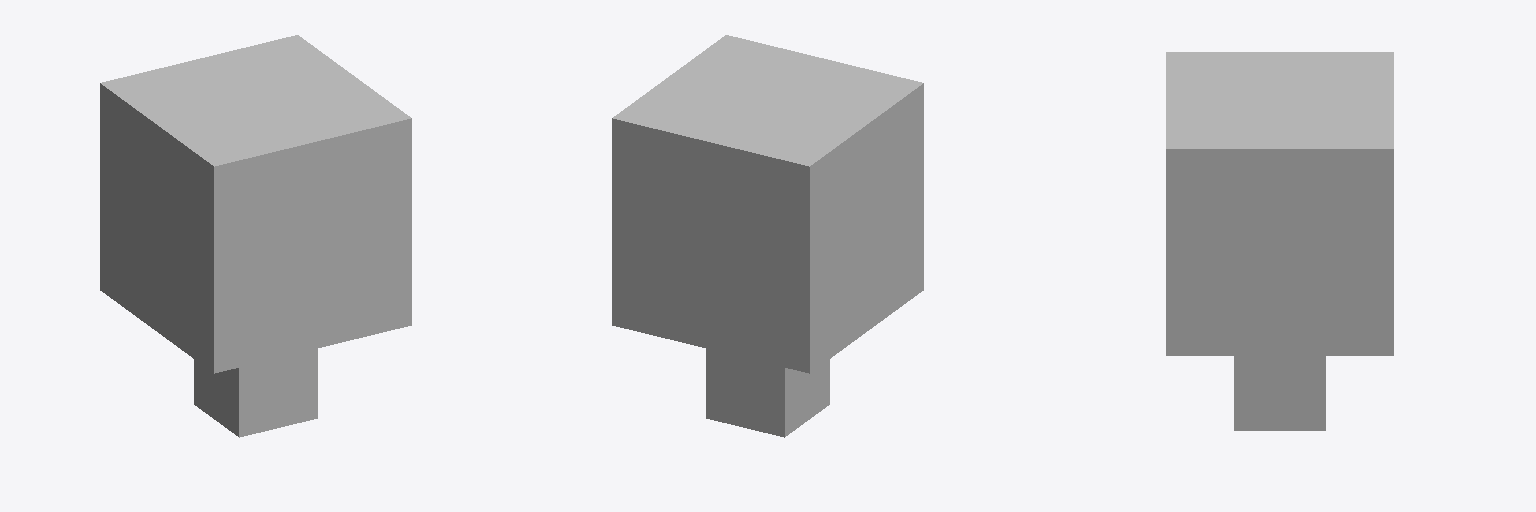
The model's file is tree_2.obj.
3 renders of one model, left to right at view 1: azimuth 30°, elevation 25°; view 2: azimuth 150°, elevation 25°; view 3: azimuth 270°, elevation 25°, orthographic.
Visible parts, largest first — view 1: object 1; view 2: object 1; view 3: object 1.
Part boxes in pixels (bbox=[...]): object 1: bbox=[100, 35, 411, 437]; object 1: bbox=[612, 35, 923, 437]; object 1: bbox=[1166, 52, 1393, 430].
Size of the model in its own units: 1 by 1.5 by 1.